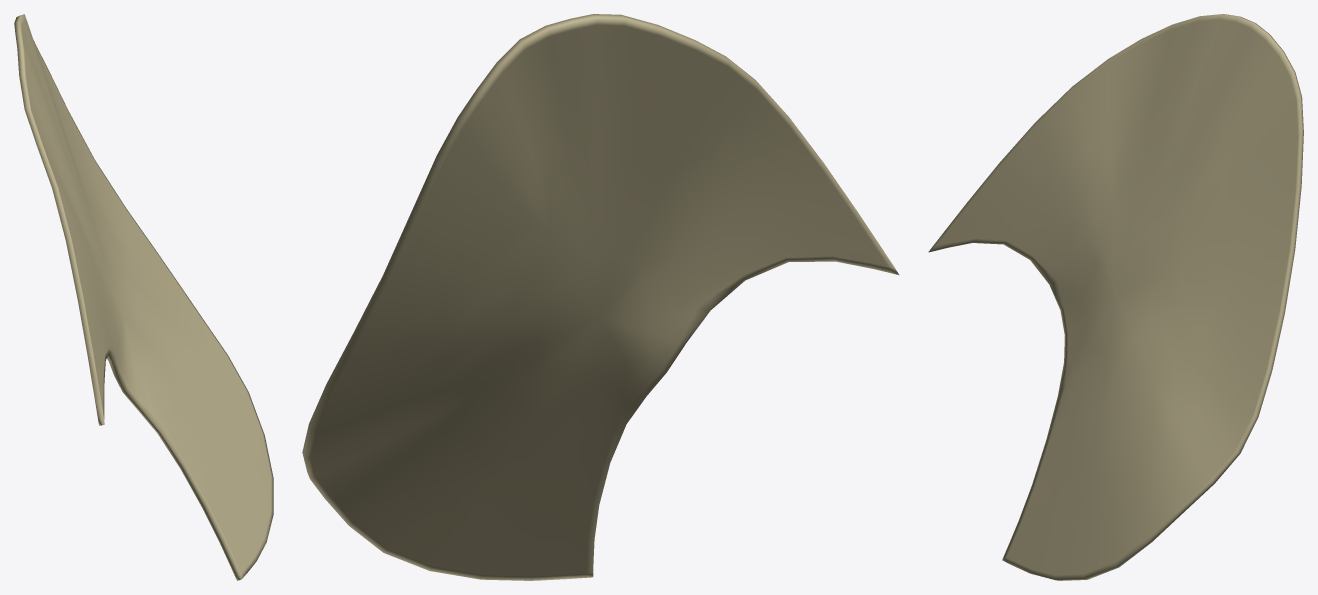
3 views of the same model, side by side, from view 1: azimuth 30°, elevation 25°; view 2: azimuth 150°, elevation 25°; view 3: azimuth 270°, elevation 25° (orthographic). The views are drawn at different scales.
Parts seen in each view (by area): view 1: 右侧闭孔膜; view 2: 右侧闭孔膜; view 3: 右侧闭孔膜.
Part boxes in pixels (box(x1,y1,x2,y2)): 右侧闭孔膜: box(14, 14, 273, 580); 右侧闭孔膜: box(302, 14, 899, 580); 右侧闭孔膜: box(928, 14, 1303, 580).
Size of the model in its own units: 0.0412 by 0.0712 by 0.049.
